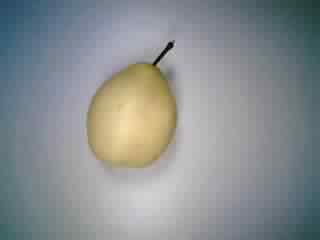pear: (77, 32, 194, 177)
